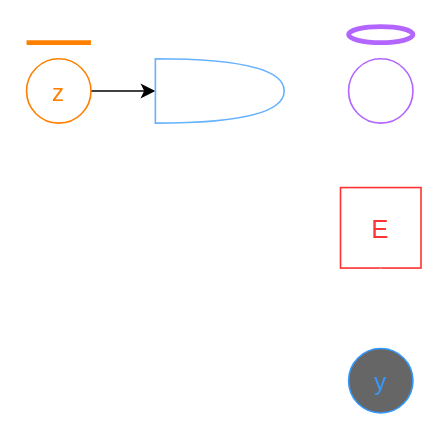
This 448x440 diagram has some shape labels left out. Each missing label, with the centre of its shape:
Decoder: pixel 219 90
𝑦̃: pixel 380 90
